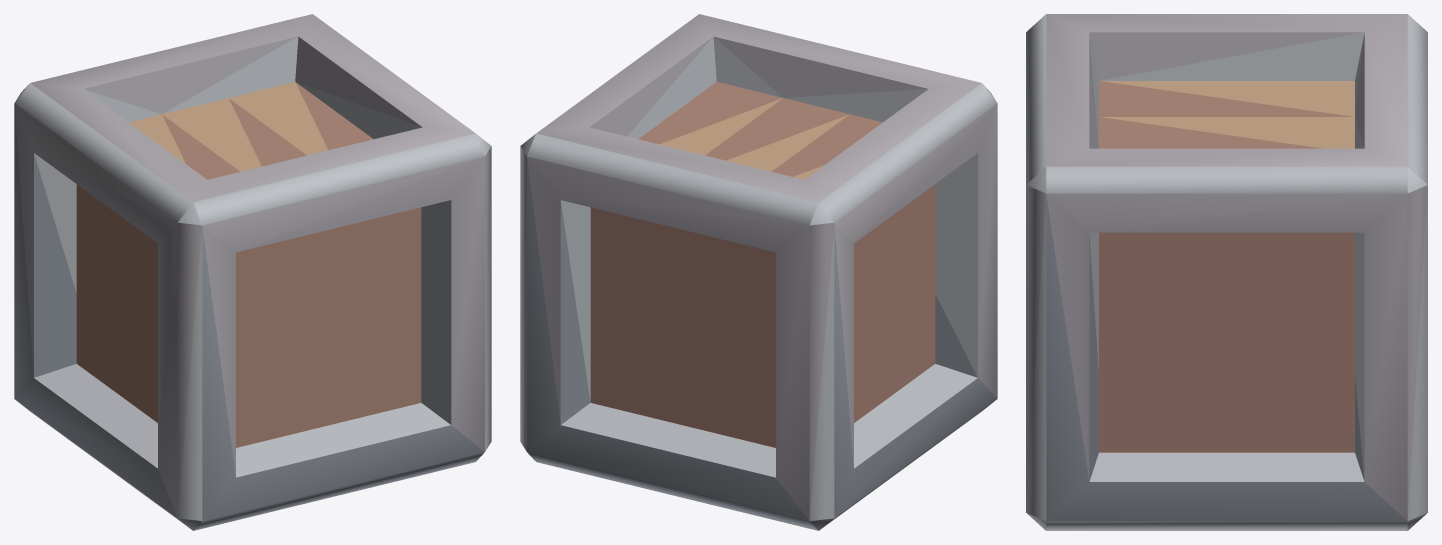
3 renders of one model, left to right at view 1: azimuth 30°, elevation 25°; view 2: azimuth 150°, elevation 25°; view 3: azimuth 270°, elevation 25°, orthographic. The views are drawn at different scales.
Visible parts, largest first — view 1: model; view 2: model; view 3: model.
Part boxes in pixels (left/top/right/bottom): model: left=14, top=14, right=491, bottom=530; model: left=520, top=14, right=997, bottom=530; model: left=1026, top=14, right=1427, bottom=530.
Bounding box in the file's own units: 0.7 × 0.7 × 0.7.
